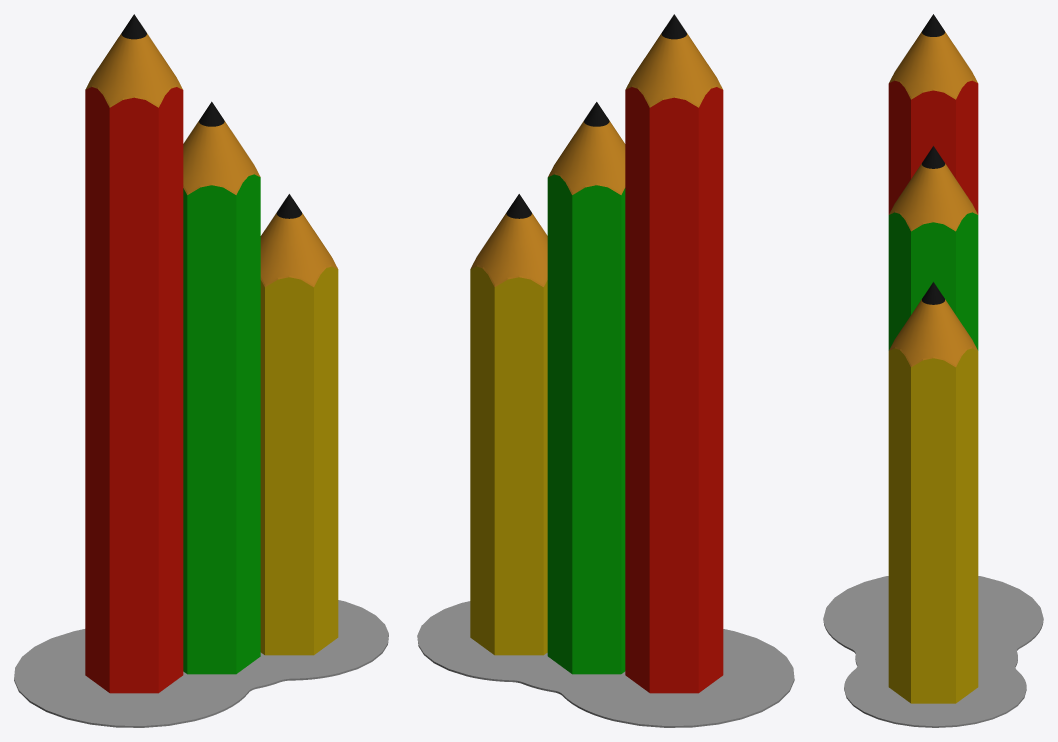
The model's file is pencils.fbx.
3 views of the same model, side by side, from view 1: azimuth 30°, elevation 25°; view 2: azimuth 150°, elevation 25°; view 3: azimuth 270°, elevation 25° (orthographic). The views are drawn at different scales.
Visible parts, largest first — view 1: Cylinder005, Cylinder002, Cylinder004, Circle001; view 2: Cylinder005, Cylinder002, Cylinder004, Circle001; view 3: Cylinder004, Circle001, Cylinder002, Cylinder005.
Boxes of the visible parts, x1=… form: Cylinder005: x1=85, y1=14, x2=183, y2=693; Cylinder002: x1=183, y1=101, x2=260, y2=674; Cylinder004: x1=260, y1=194, x2=338, y2=655; Circle001: x1=14, y1=600, x2=388, y2=727; Cylinder005: x1=625, y1=14, x2=723, y2=693; Cylinder002: x1=547, y1=102, x2=625, y2=674; Cylinder004: x1=470, y1=194, x2=547, y2=655; Circle001: x1=417, y1=601, x2=794, y2=727; Cylinder004: x1=888, y1=282, x2=978, y2=703; Circle001: x1=823, y1=576, x2=1043, y2=727; Cylinder002: x1=888, y1=146, x2=978, y2=350; Cylinder005: x1=888, y1=14, x2=978, y2=214.
Bounding box in the file's own units: 98.16 × 179 × 59.04.
